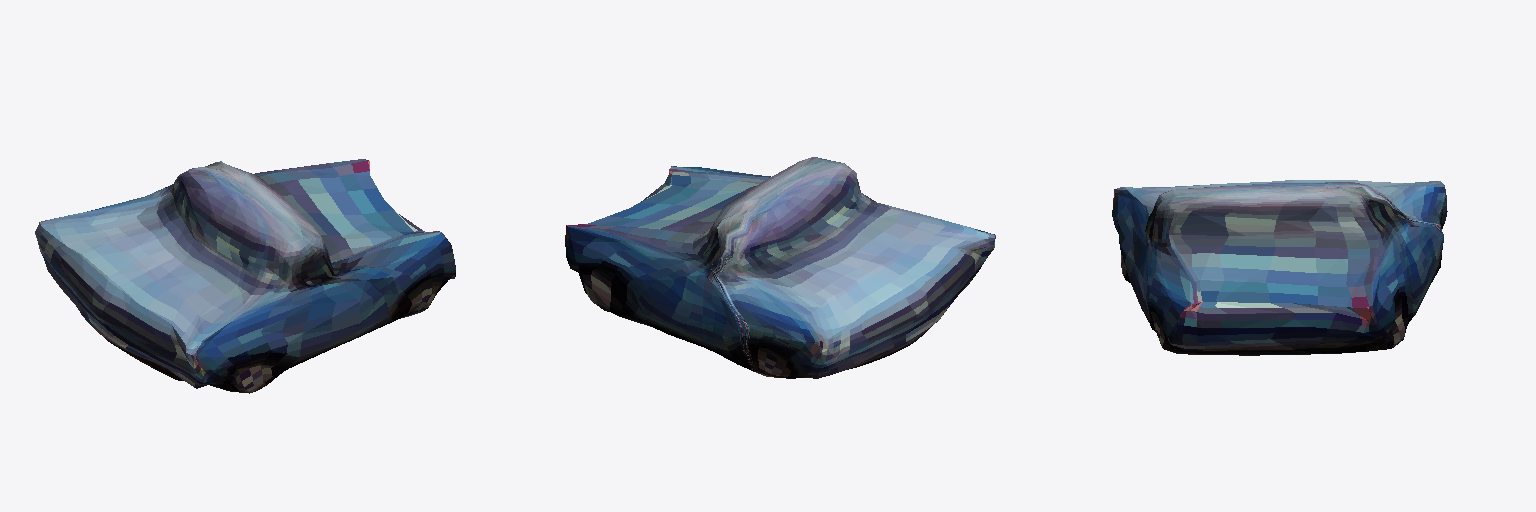
3 renders of one model, left to right at view 1: azimuth 30°, elevation 25°; view 2: azimuth 150°, elevation 25°; view 3: azimuth 270°, elevation 25°, orthographic.
Bounding box in the file's own units: 1 × 0.3987 × 0.9206.
1 materials, 1 textured.